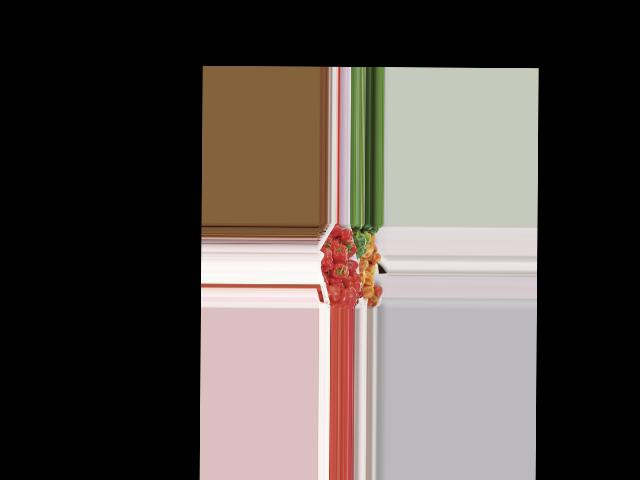bell_pepper: (319, 247, 333, 272)
